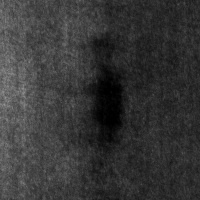patches: (92, 67, 125, 139)
